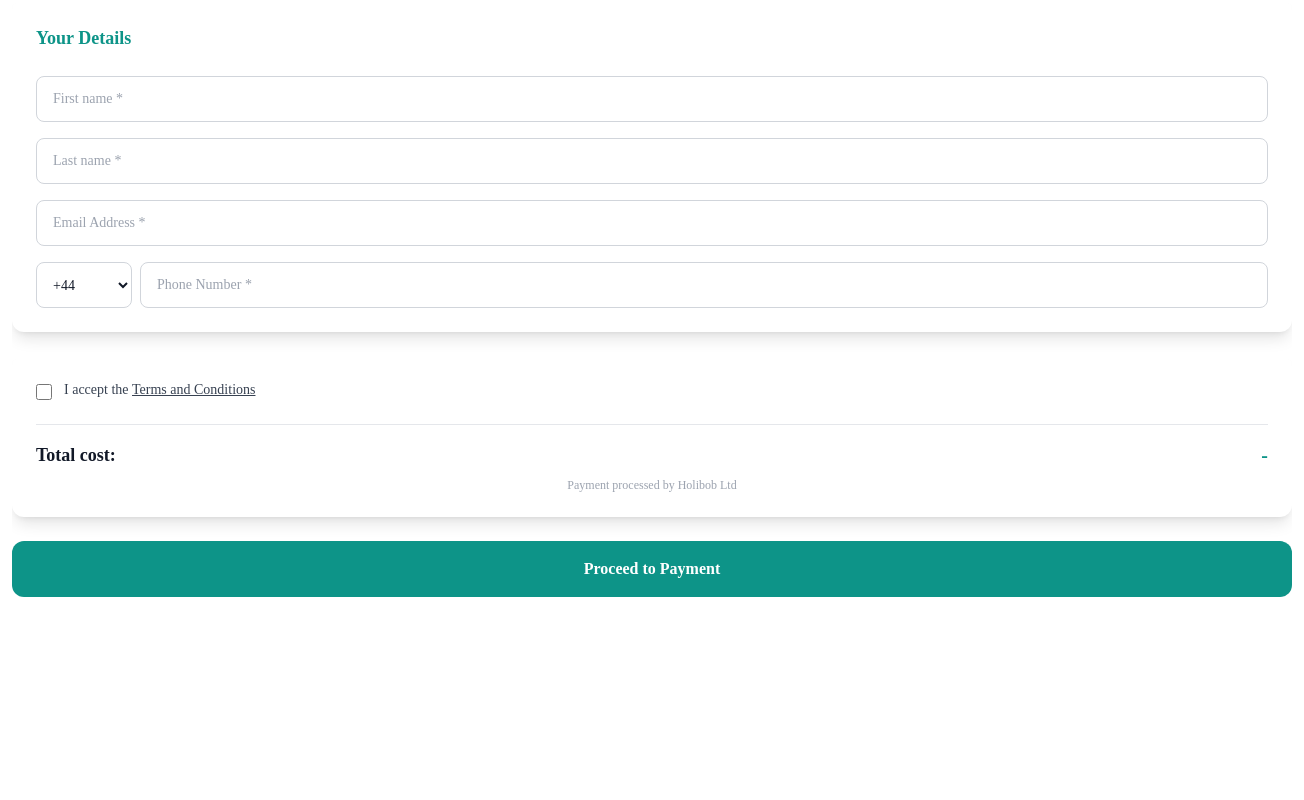
QuestionsForm › validates email format
The image size is (1304, 800).
Type "John" into the field with placeholder "First name *" at (652, 99), box x1=36 y1=76 x2=1268 y2=122
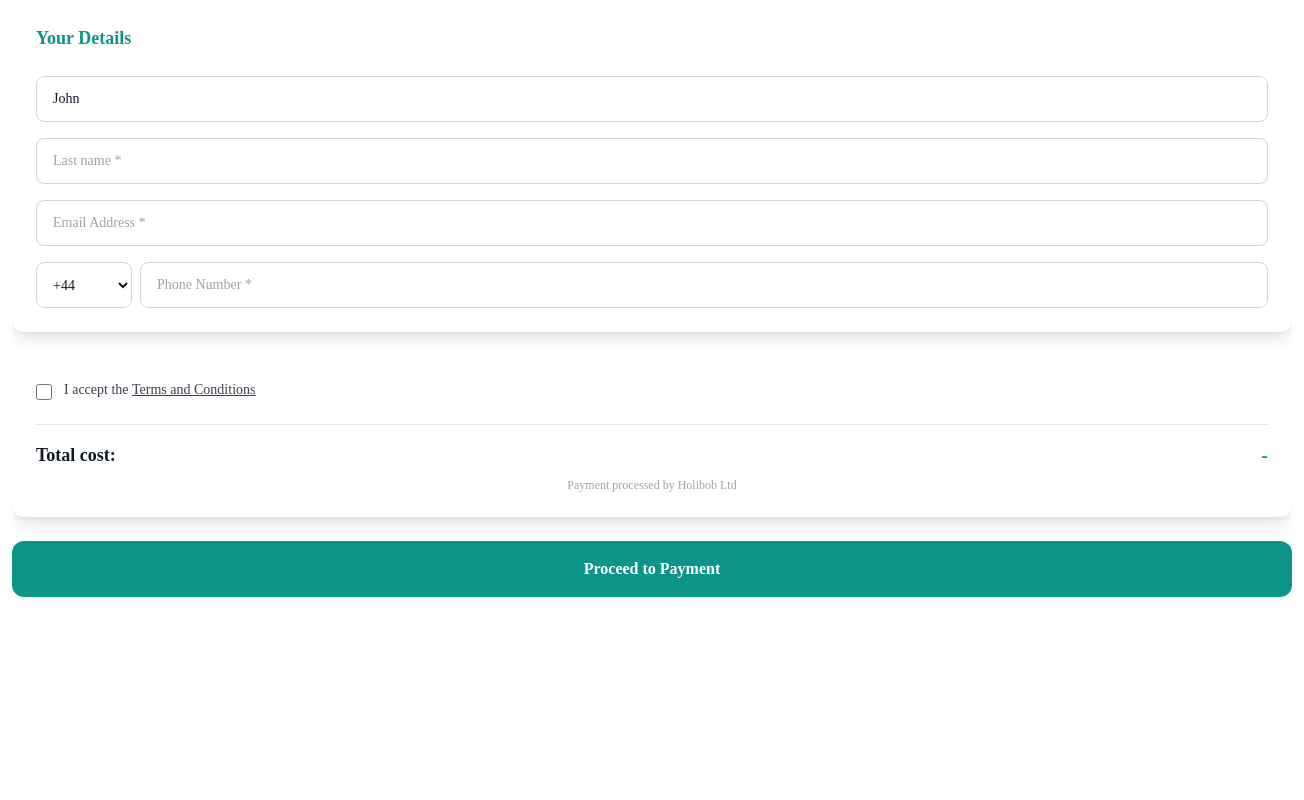
Type "Smith" into the field with placeholder "Last name *" at (652, 161), box x1=36 y1=138 x2=1268 y2=184
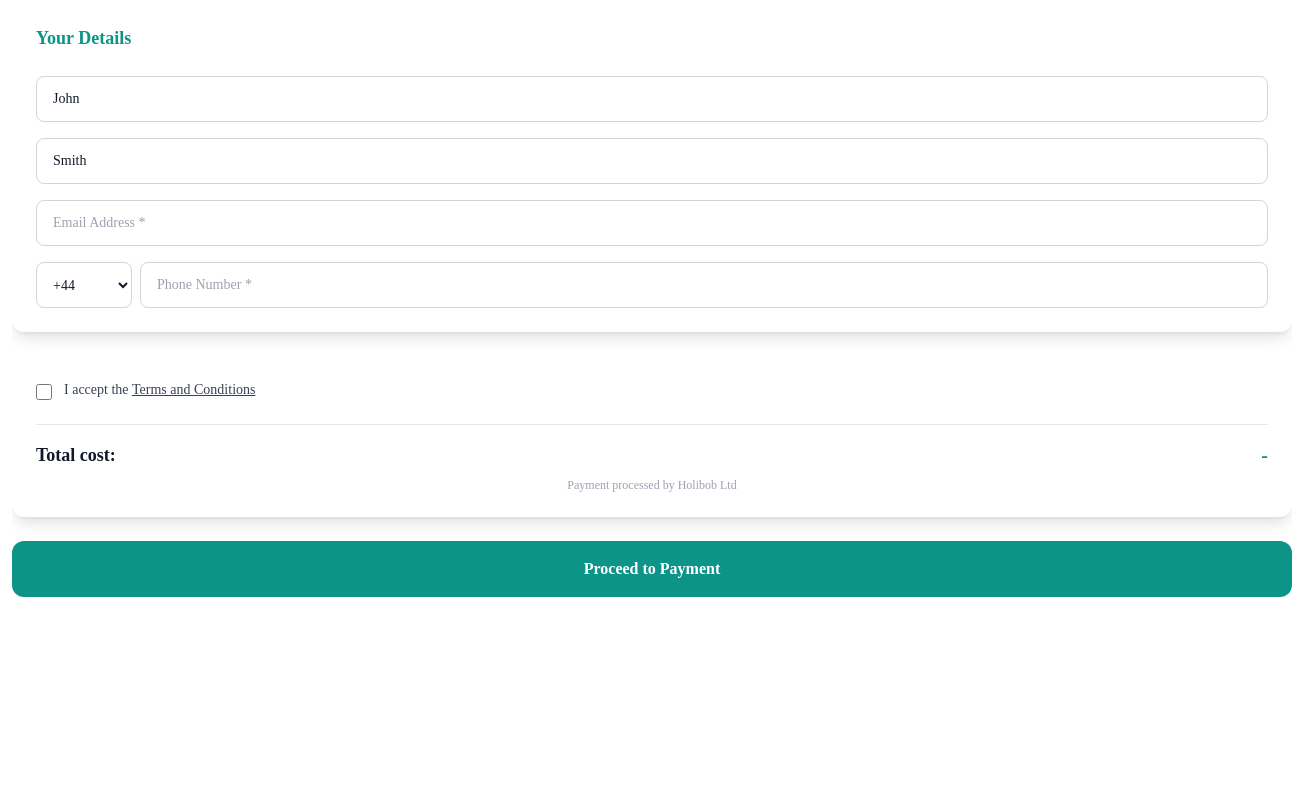
Type "bad-email" into the field with placeholder "Email Address *" at (652, 223), box x1=36 y1=200 x2=1268 y2=246
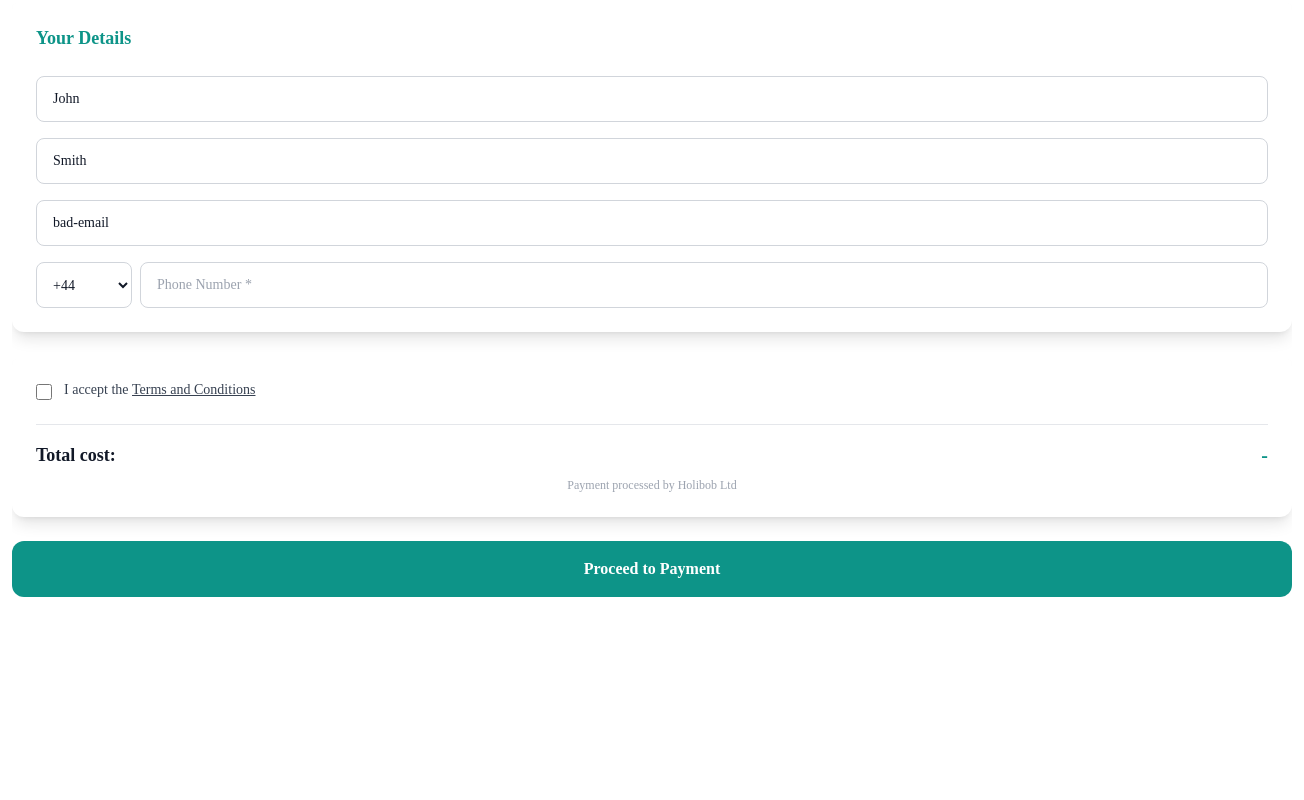
Type "123" into the field with placeholder "Phone Number *" at (704, 285), box x1=140 y1=262 x2=1268 y2=308
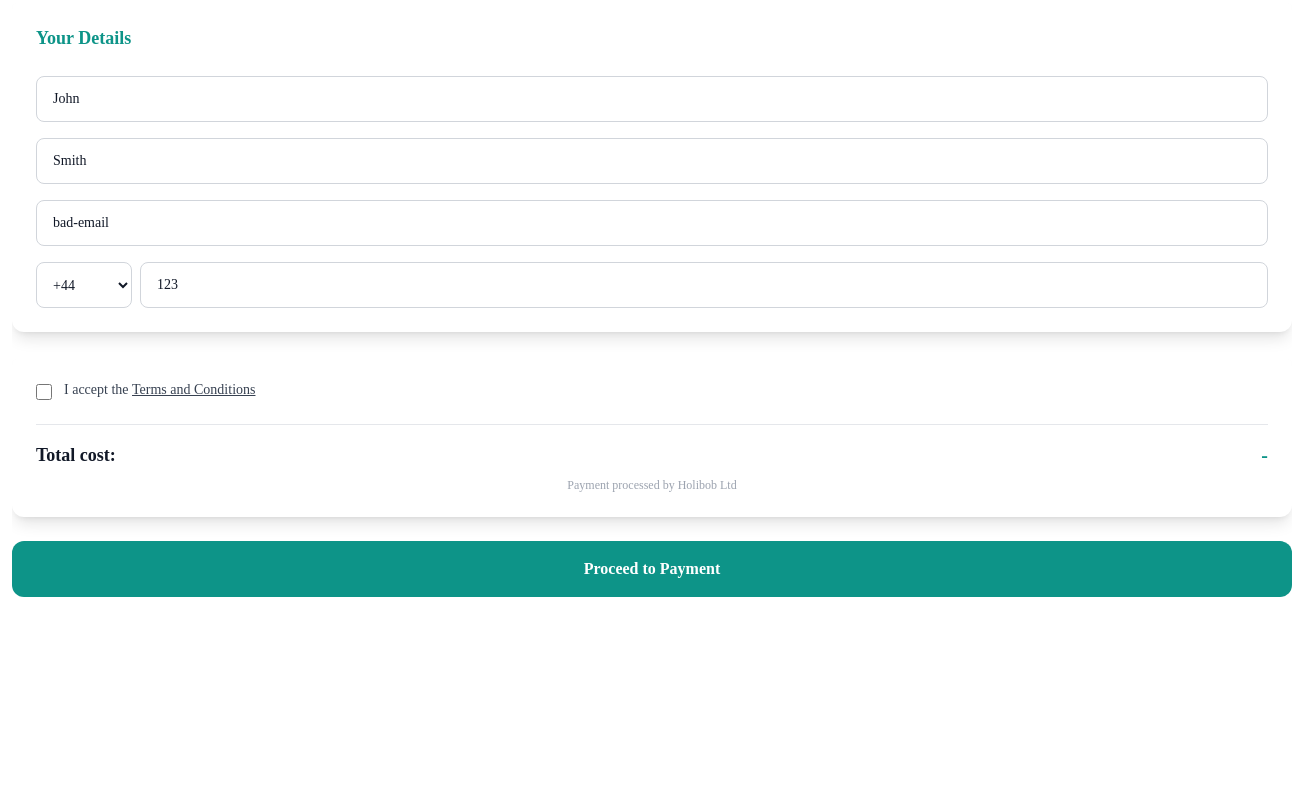
Note: Check the terms checkbox using change event
Click the checkbox with test id "terms-checkbox" at (44, 392), box x1=36 y1=384 x2=52 y2=400
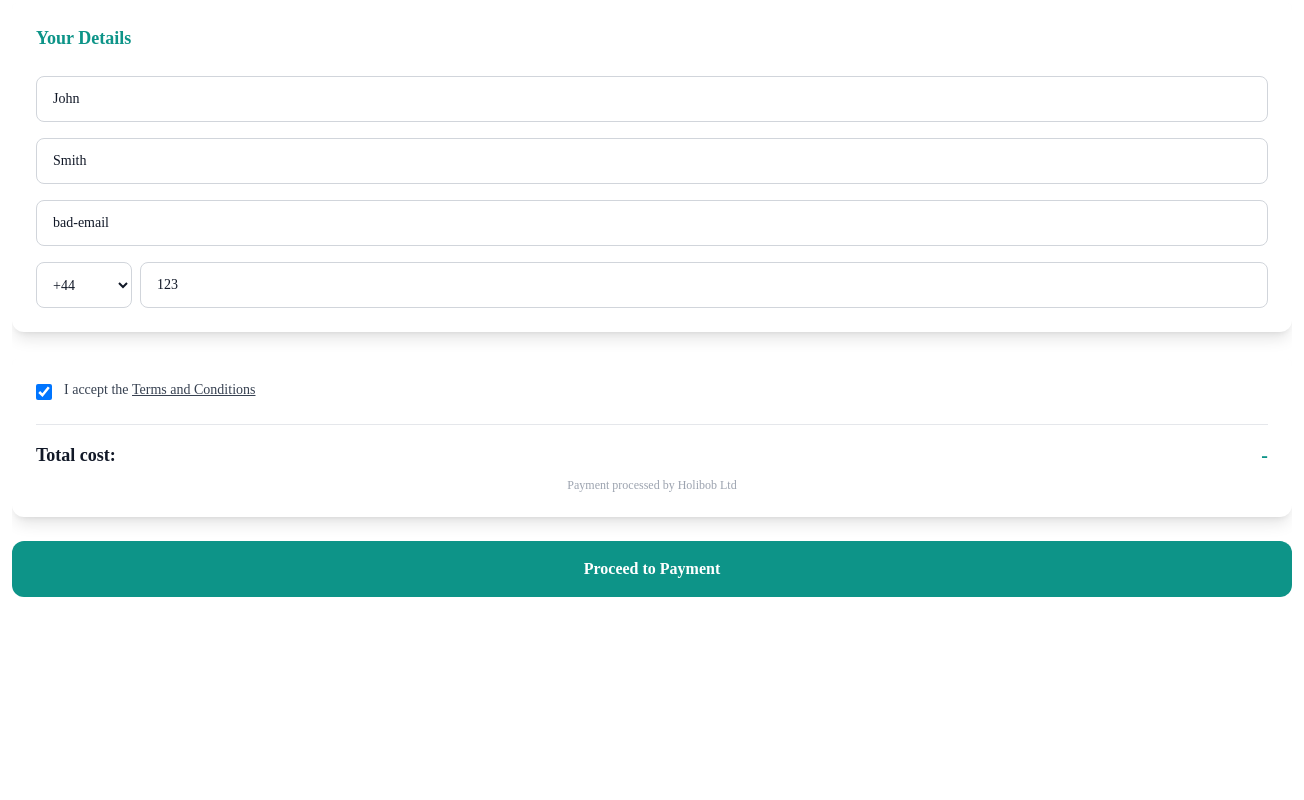
Submit the form with test id "questions-form"
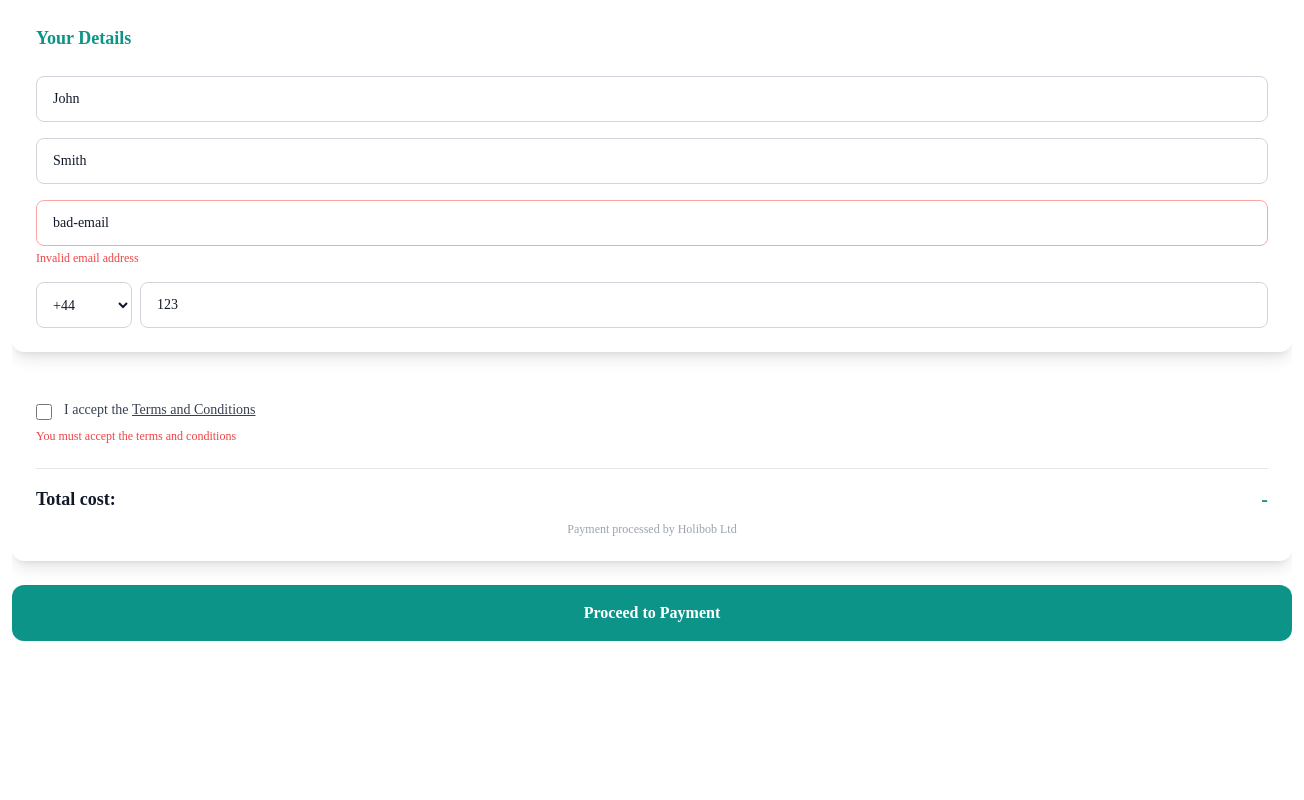
Expected: the text "Invalid email address" is shown, x1=36 y1=251 x2=139 y2=265
